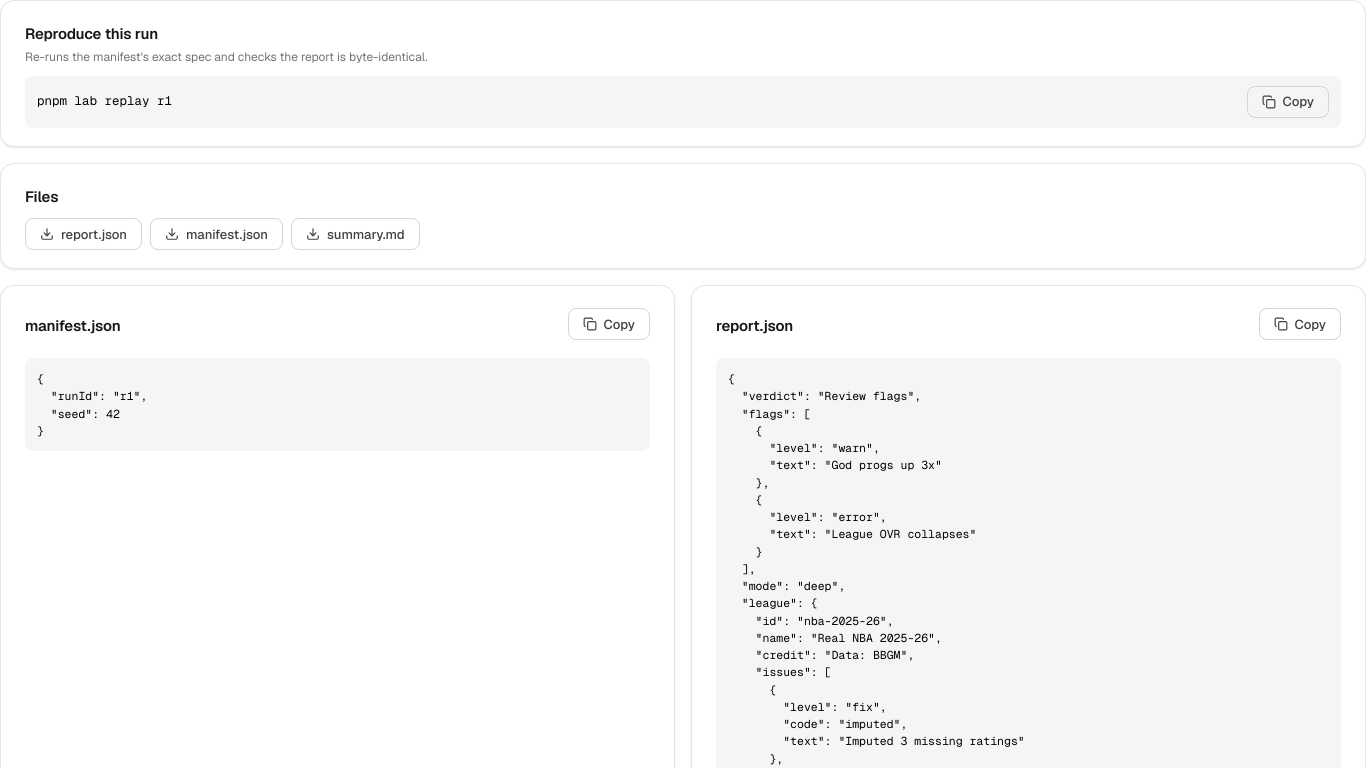
Test: LabAudit › copies the replay command and confirms it
The image size is (1366, 768).
Click the button "Copy" in the row of "pnpm lab replay r1". click: {"x": 1288, "y": 102}
box: top-left (1247, 86), bottom-right (1329, 118)
(page scrolled)
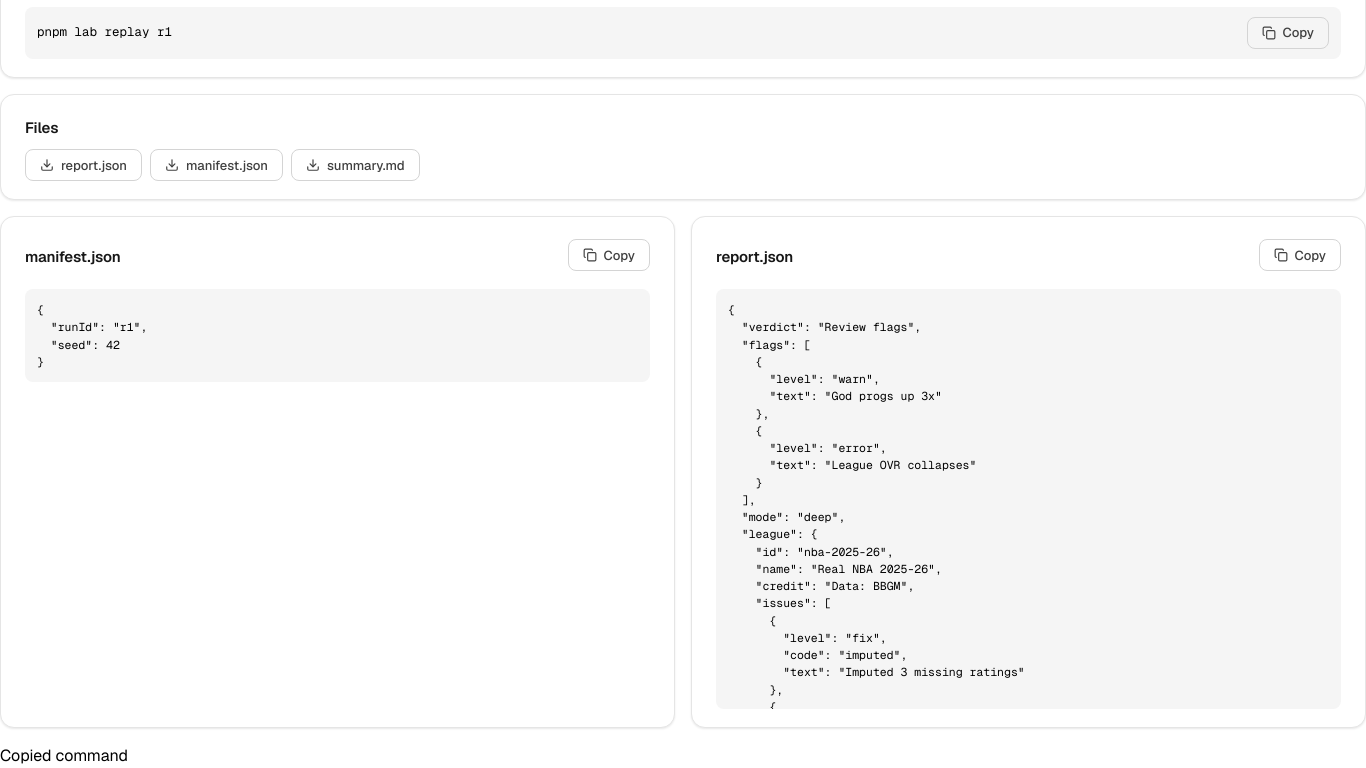
Expected: the message "Copied command" is shown, top-left (0, 745), bottom-right (128, 766)
